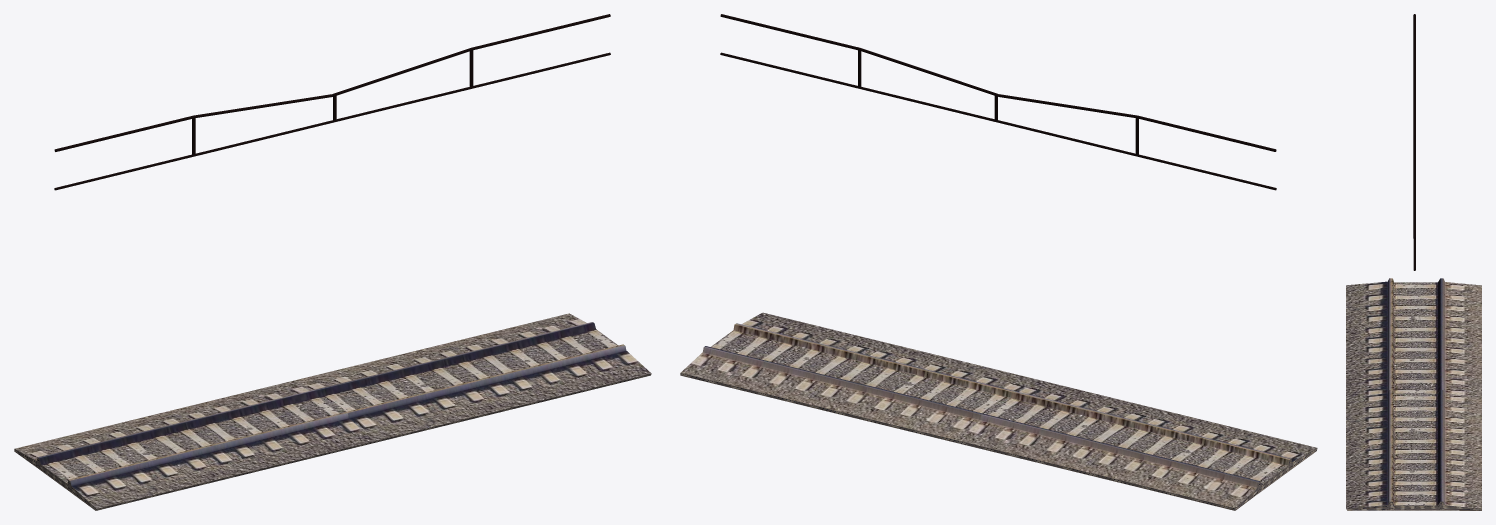
File: railway_track__train_tracks__traintracks.glb
3 views of the same model, side by side, from view 1: azimuth 30°, elevation 25°; view 2: azimuth 150°, elevation 25°; view 3: azimuth 270°, elevation 25° (orthographic). The views are drawn at different scales.
Parts seen in each view (by area): view 1: Object_3, Object_2; view 2: Object_3, Object_2; view 3: Object_3, Object_2.
Boxes of the visible parts, box(x1,y1,x2,y2) form: Object_3: box(14, 313, 651, 510); Object_2: box(54, 14, 610, 190); Object_3: box(680, 312, 1317, 510); Object_2: box(720, 14, 1276, 190); Object_3: box(1346, 278, 1481, 510); Object_2: box(1413, 14, 1415, 270).
Size of the model in its own units: 7.13 by 4.07 by 1.83.
2 materials, 1 textured.
